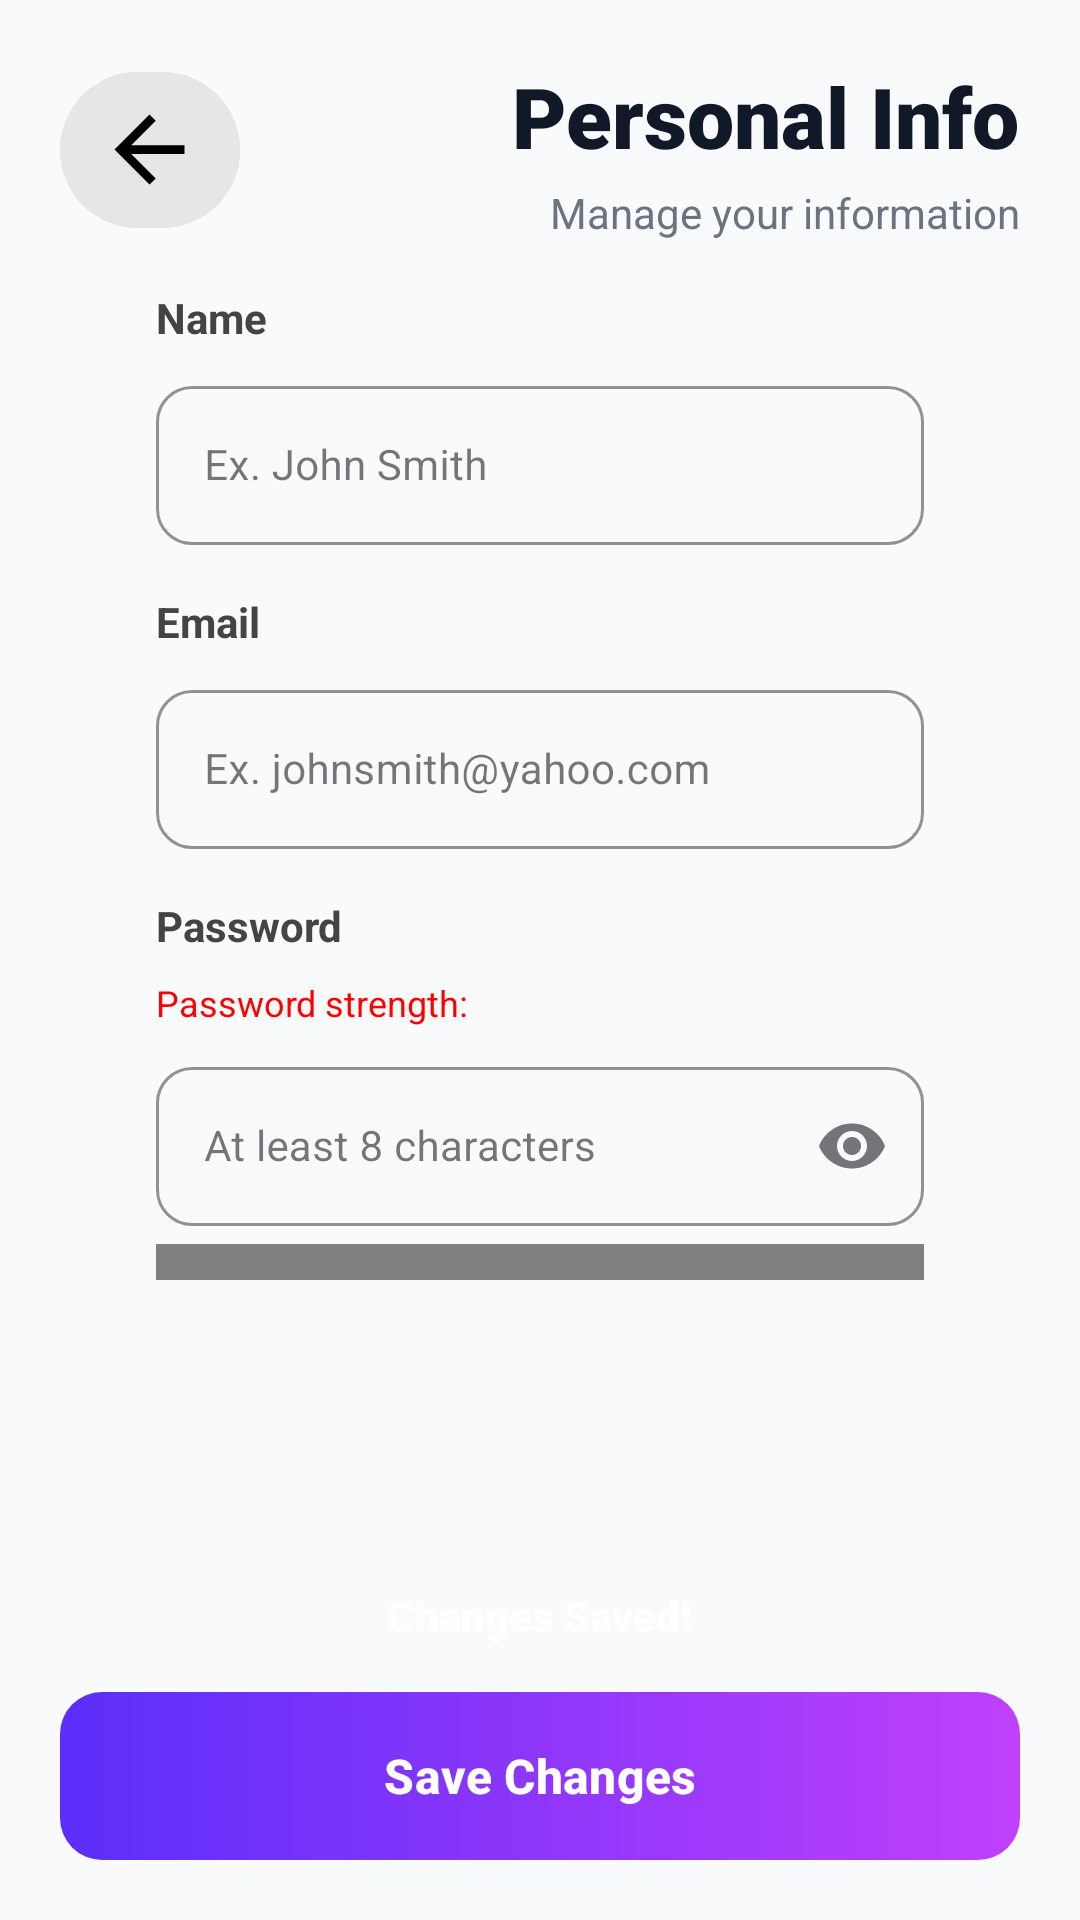

Point at icon controls on the screen. Image size 1080*1920, points as [x,y].
back: [150,150]
